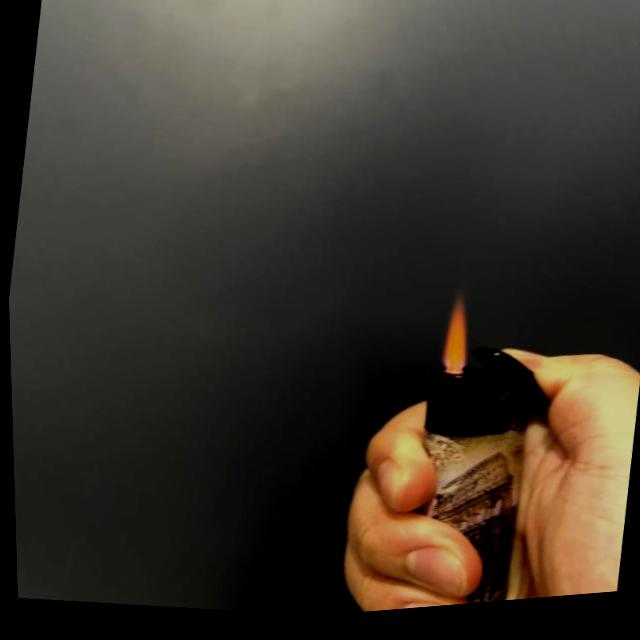helmet: (435, 305, 477, 383)
